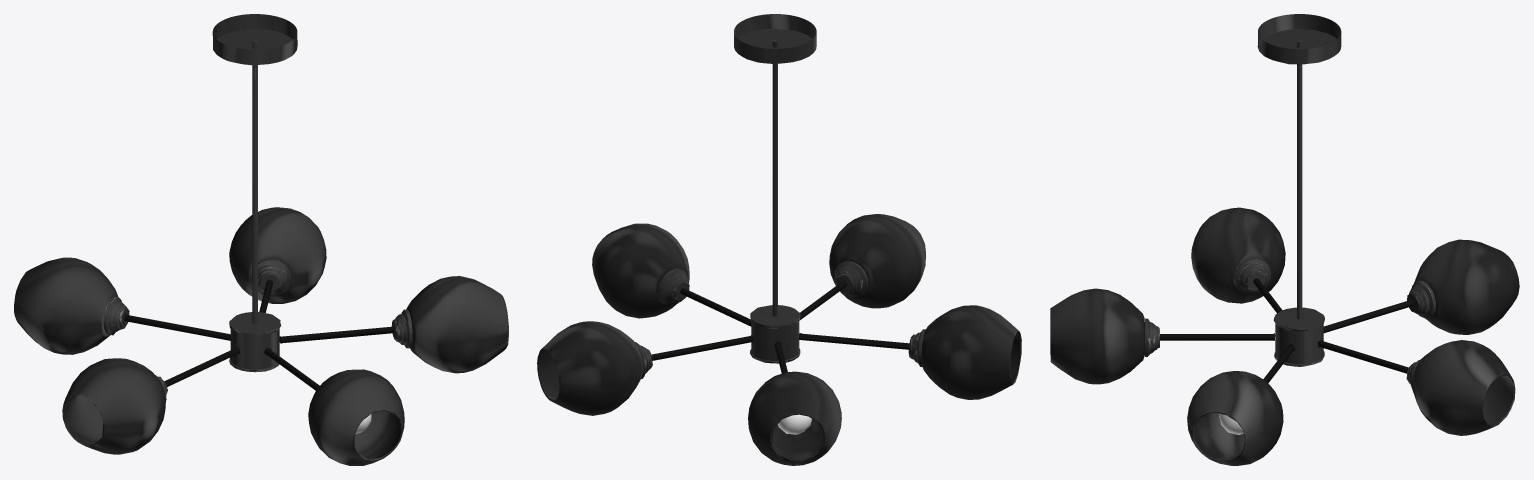
3 views of the same model, side by side, from view 1: azimuth 30°, elevation 25°; view 2: azimuth 150°, elevation 25°; view 3: azimuth 270°, elevation 25° (orthographic). The views are drawn at different scales.
Visible parts, largest first — view 1: glass_001, solid_001, glass_002; view 2: glass_001, solid_001, glass_002, solid_002; view 3: glass_001, solid_001, glass_002.
Part boxes in pixels (x1=…): glass_001: x1=14, y1=207, x2=508, y2=465; solid_001: x1=103, y1=14, x2=412, y2=400; glass_002: x1=124, y1=279, x2=394, y2=390; glass_001: x1=537, y1=214, x2=1021, y2=465; solid_001: x1=635, y1=14, x2=925, y2=378; glass_002: x1=651, y1=281, x2=909, y2=373; solid_002: x1=777, y1=414, x2=811, y2=434; glass_001: x1=1050, y1=207, x2=1519, y2=465; solid_001: x1=1145, y1=14, x2=1435, y2=389; glass_002: x1=1160, y1=278, x2=1414, y2=383.
Size of the model in its own units: 1.56 by 1.22 by 1.49.
1 material, 1 textured.
